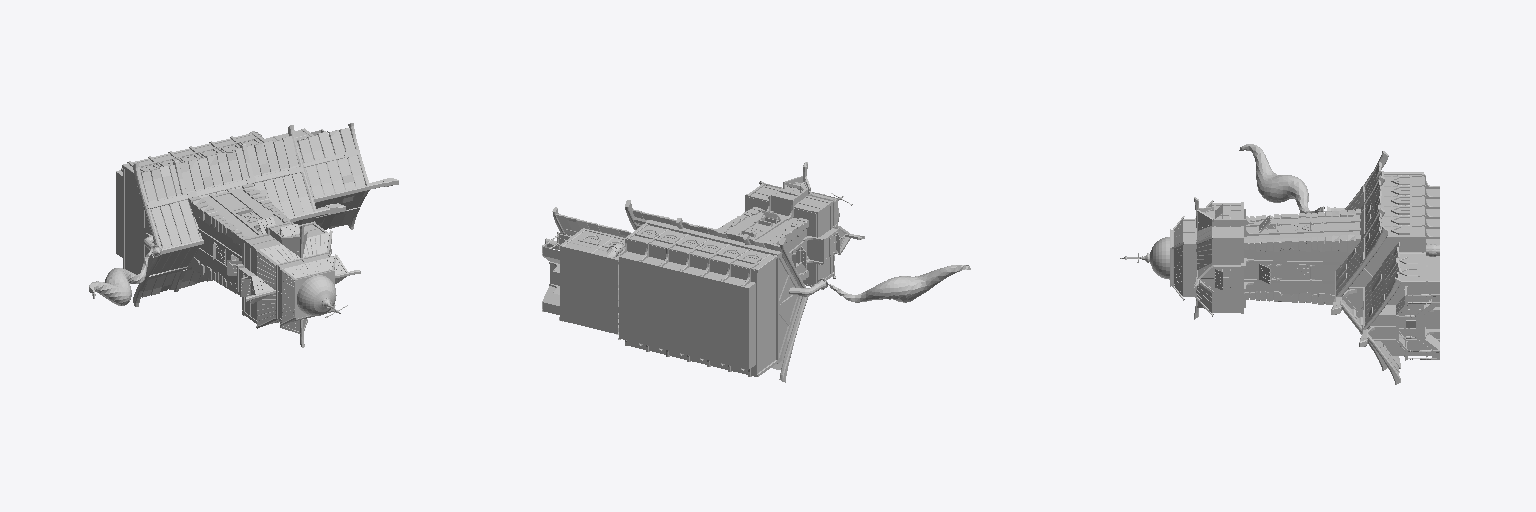
The model's file is viking-house.obj.
3 renders of one model, left to right at view 1: azimuth 30°, elevation 25°; view 2: azimuth 150°, elevation 25°; view 3: azimuth 270°, elevation 25°, orthographic.
Parts seen in each view (by area): view 1: 123; view 2: 123; view 3: 123.
Part boxes in pixels (x1,y1,x2,y2): 123: (89,123,398,347); 123: (542,162,970,382); 123: (1120,144,1439,384).
Size of the model in its own units: 42.26 by 15.98 by 32.02.